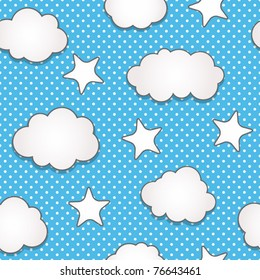cloud: (12, 104, 102, 172), (127, 47, 227, 103), (140, 164, 217, 226), (1, 5, 69, 64), (1, 195, 50, 254), (104, 240, 166, 260)
star: (121, 117, 164, 159), (212, 110, 254, 152), (68, 186, 111, 227), (64, 53, 104, 94)
